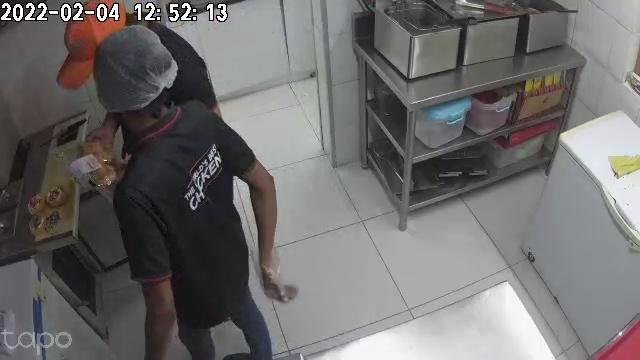gloves: (257, 235, 287, 302)
